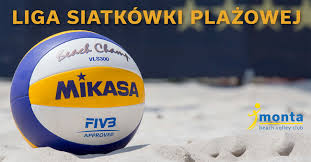ball: (10, 29, 146, 154)
